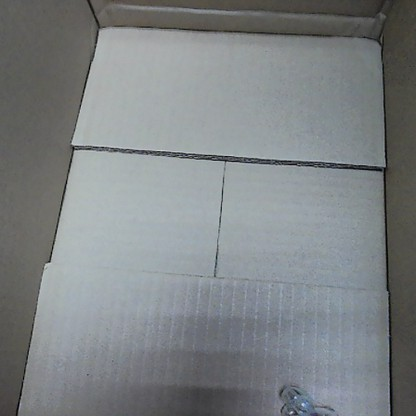whitefish: (274, 381, 340, 414)
